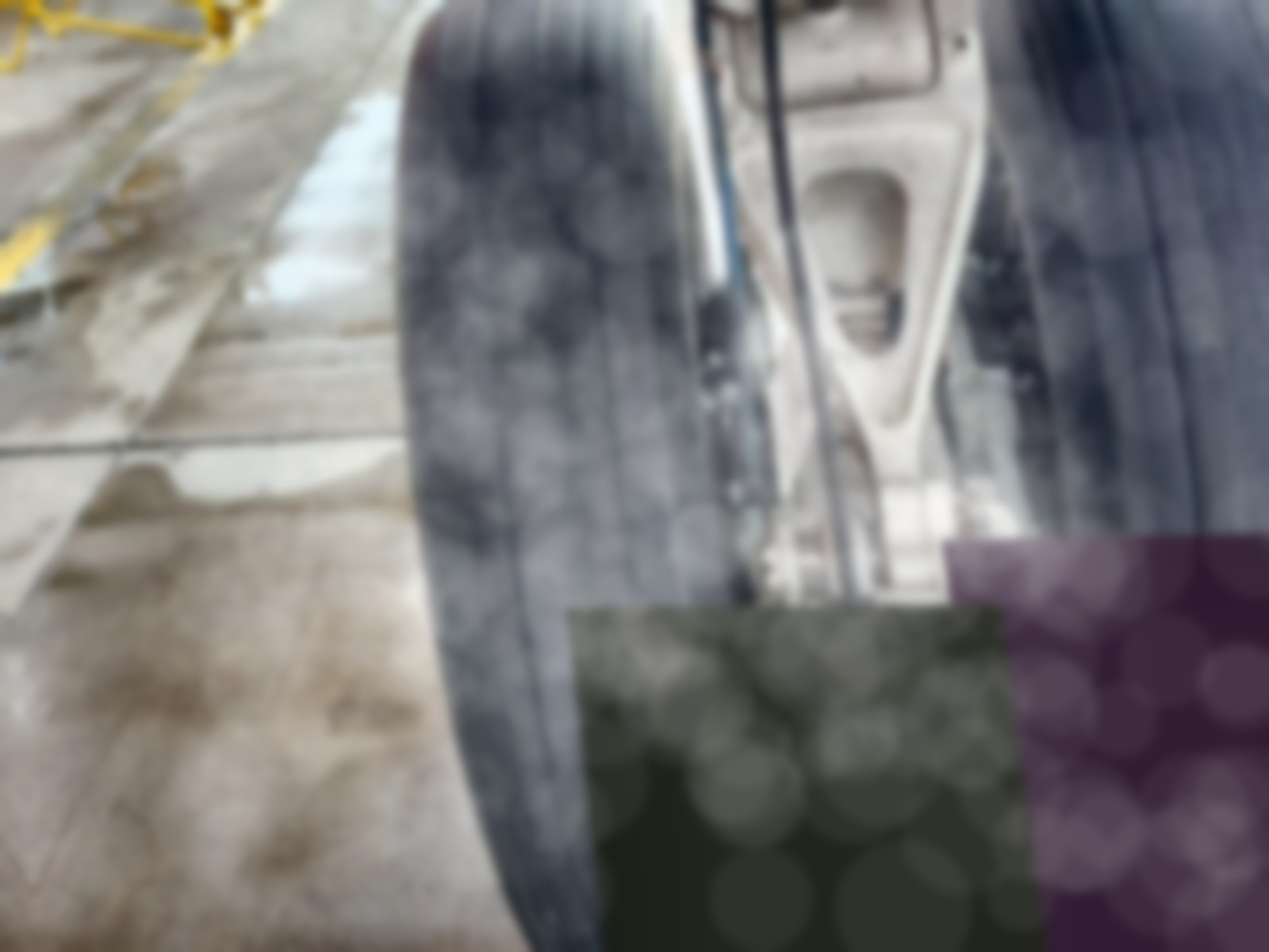wheel: (326, 0, 835, 952), (897, 0, 1269, 952)
